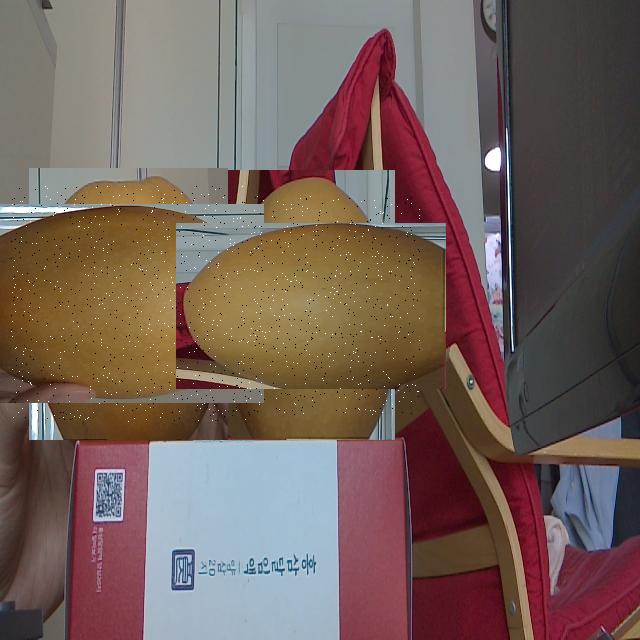pear: (11, 186, 246, 422), (202, 196, 421, 415)
